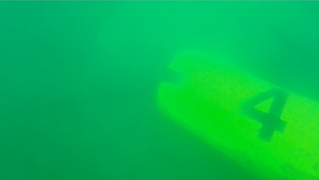4: (239, 86, 289, 142)
pipe: (157, 49, 319, 180)
